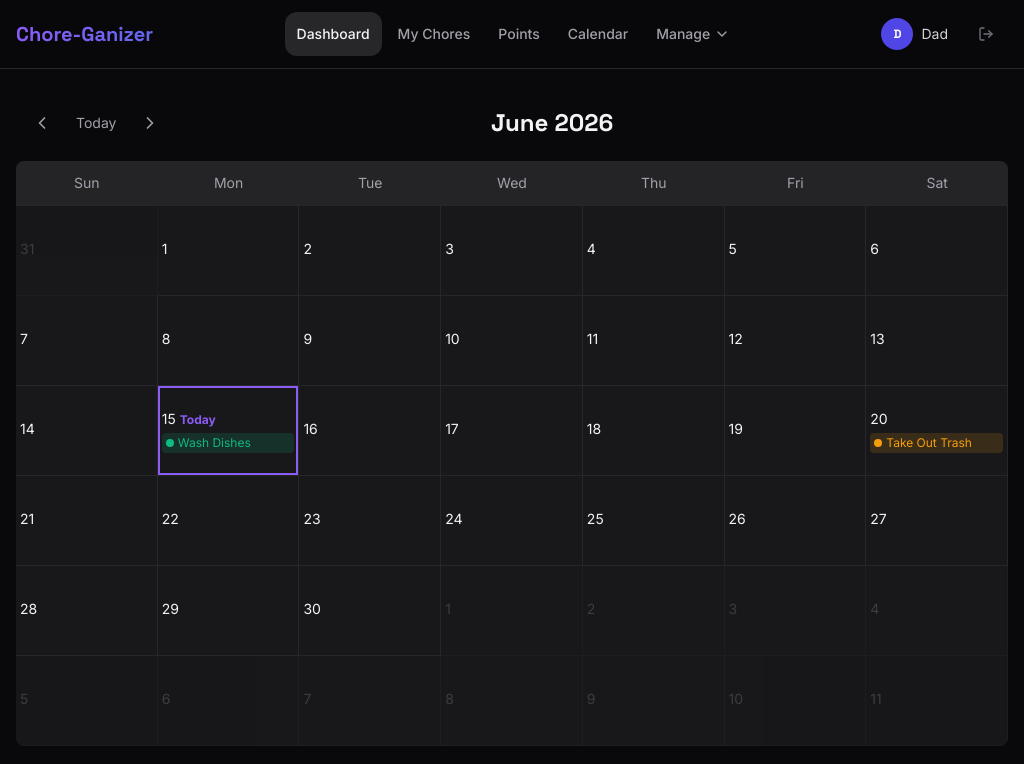
Test case: CalendarPage › closes the selected-date dialog
The width and height of the screenshot is (1024, 764).
Click the button with aria-label "View chores for June 15, 2026": click(229, 431) [158,386,299,476]
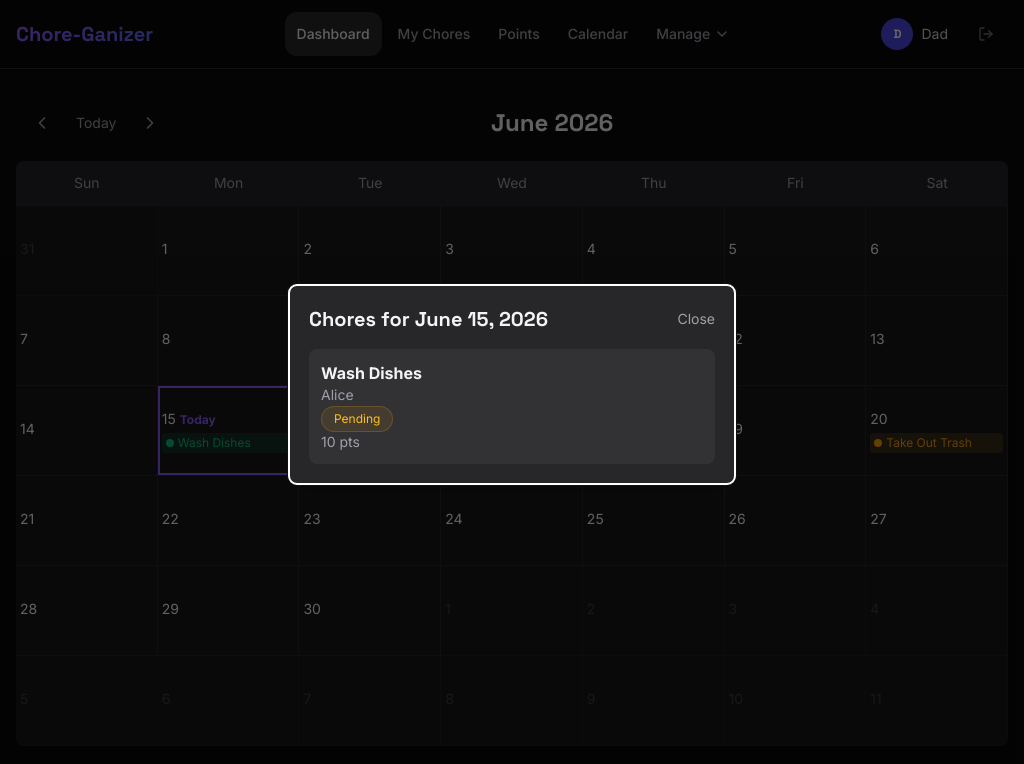
Click the button with aria-label "Close chores for June 15, 2026": click(696, 318) [677,308,715,328]
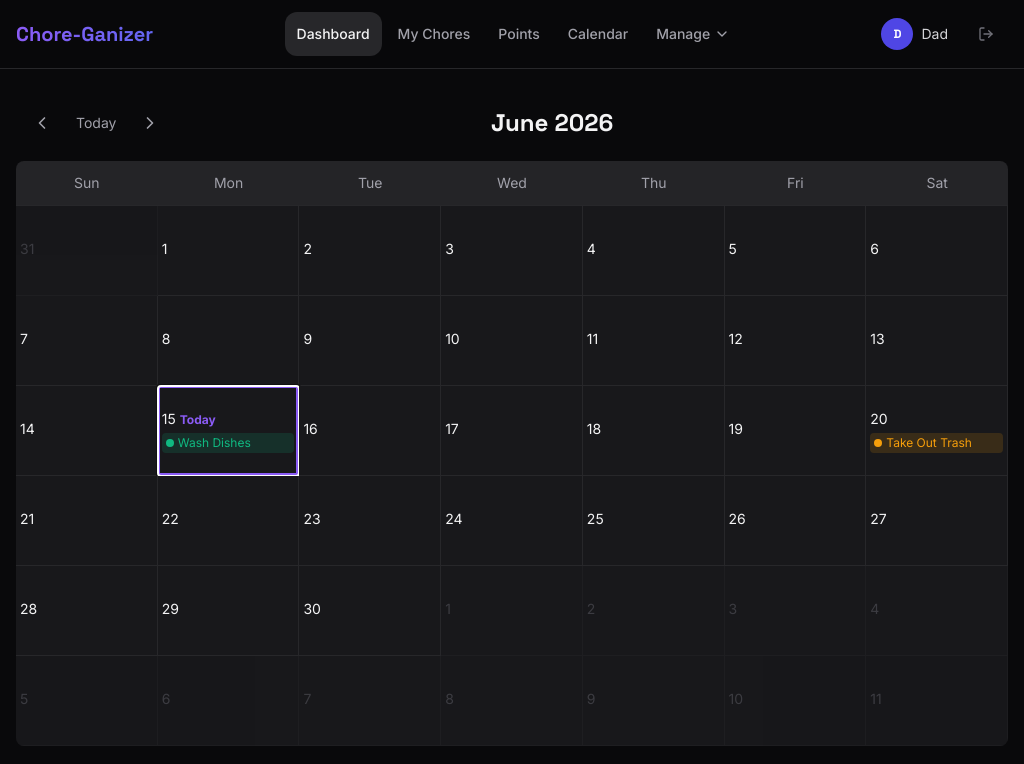
Now the dialog is gone
